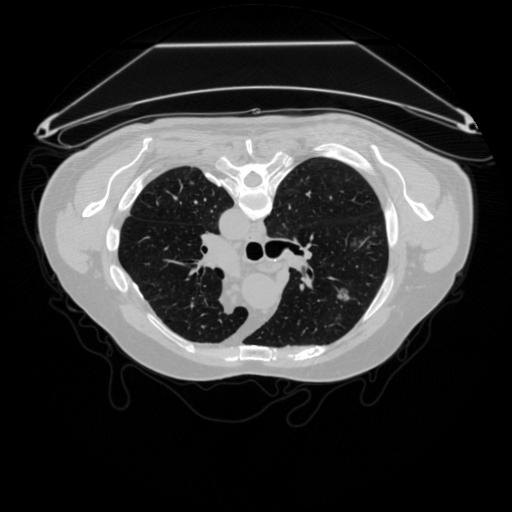nodule: (338, 289, 353, 304)
